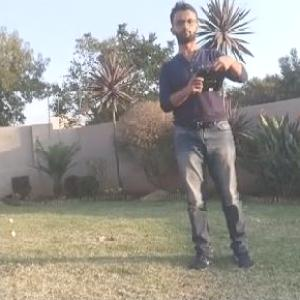follow: (155, 0, 258, 281)
